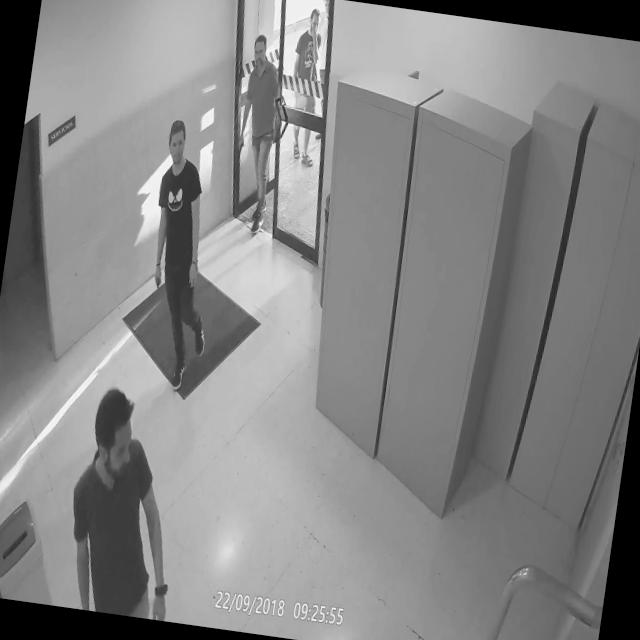gun: (148, 262, 166, 296), (236, 134, 247, 167)
person: (58, 383, 184, 620), (280, 4, 336, 170)
person with a gun: (130, 116, 238, 395), (224, 28, 298, 235)
